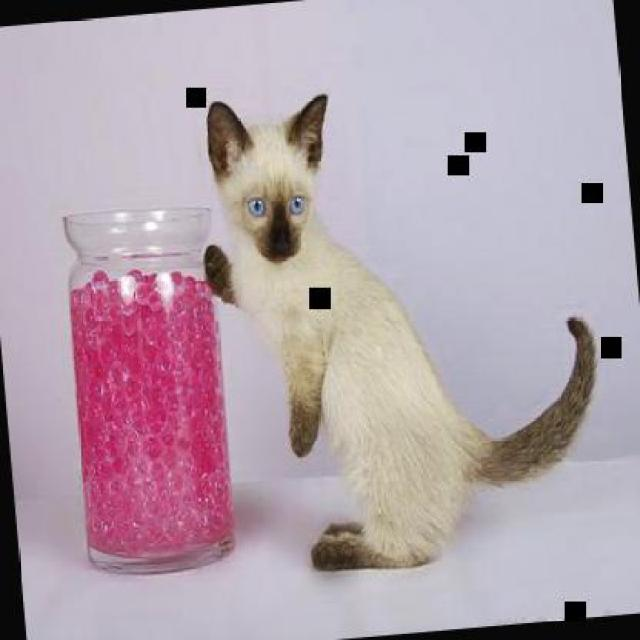cat: (189, 69, 613, 586)
